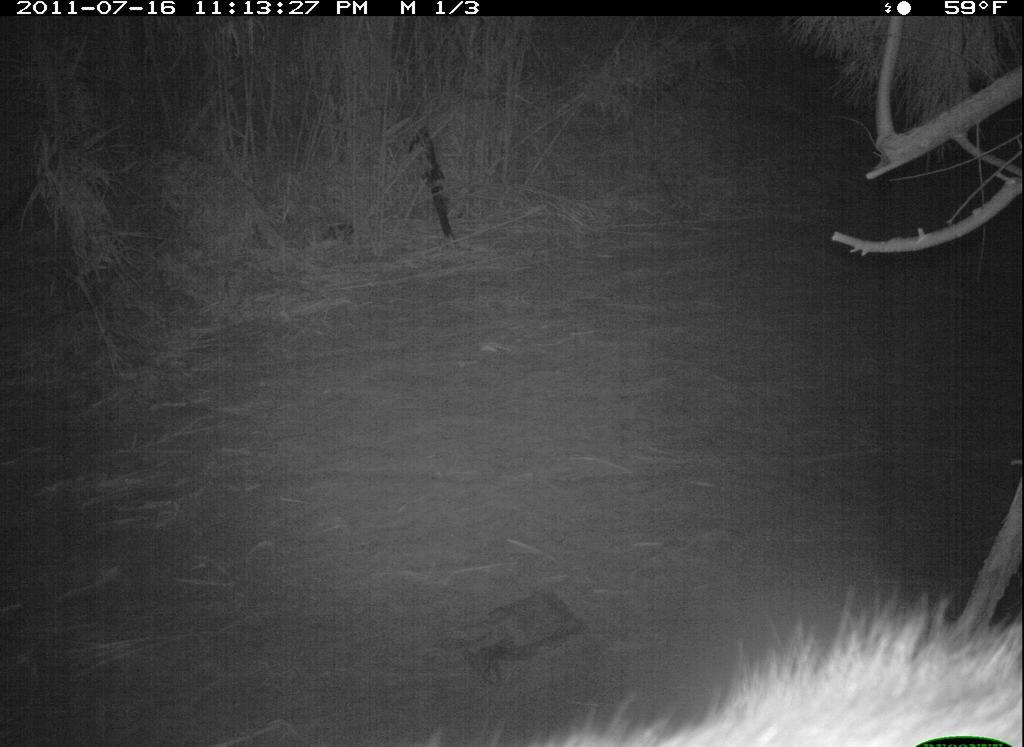raccoon: (373, 574, 1023, 747)
